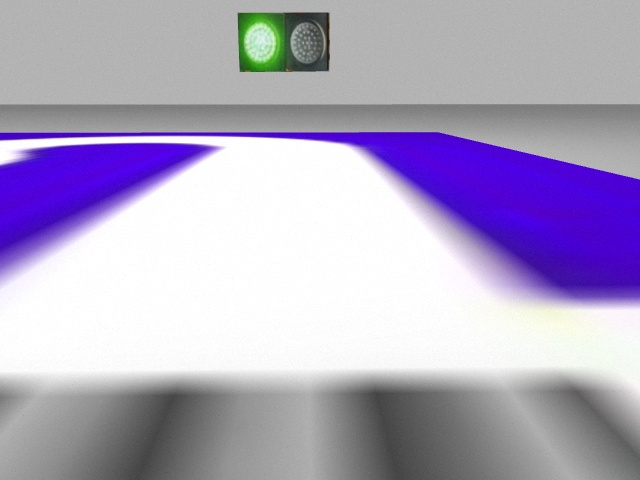green: (236, 12, 284, 74)
